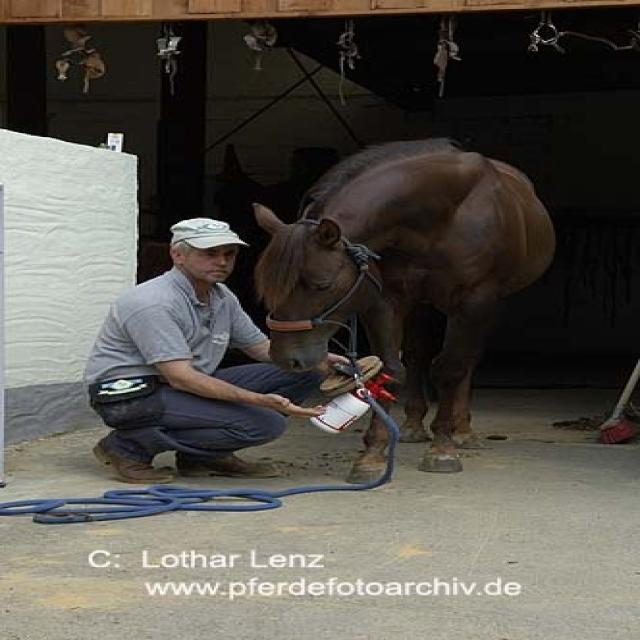horse: (255, 138, 555, 472)
